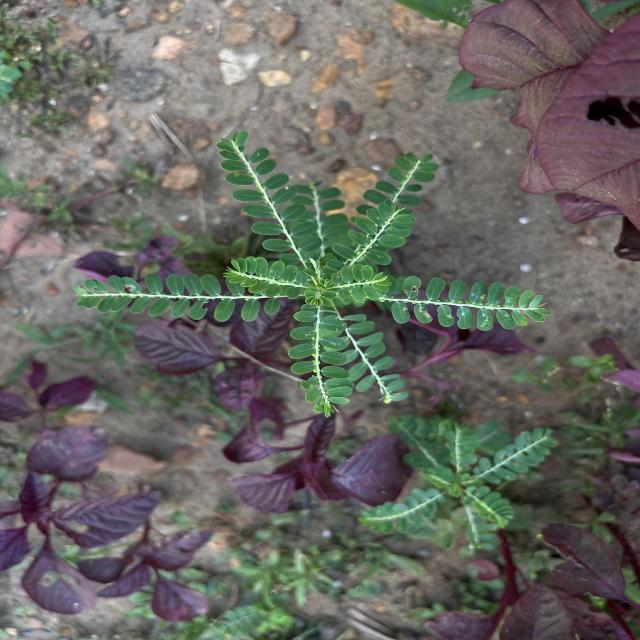Phyllanthus niruri: (216, 130, 324, 268), (70, 270, 279, 326), (387, 276, 553, 332), (284, 302, 354, 419), (330, 200, 418, 268), (222, 254, 312, 299), (327, 264, 392, 306)
